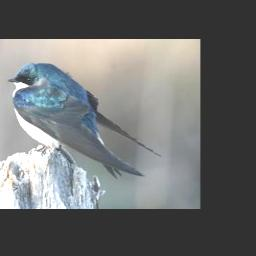Swallow: (9, 62, 164, 178)
